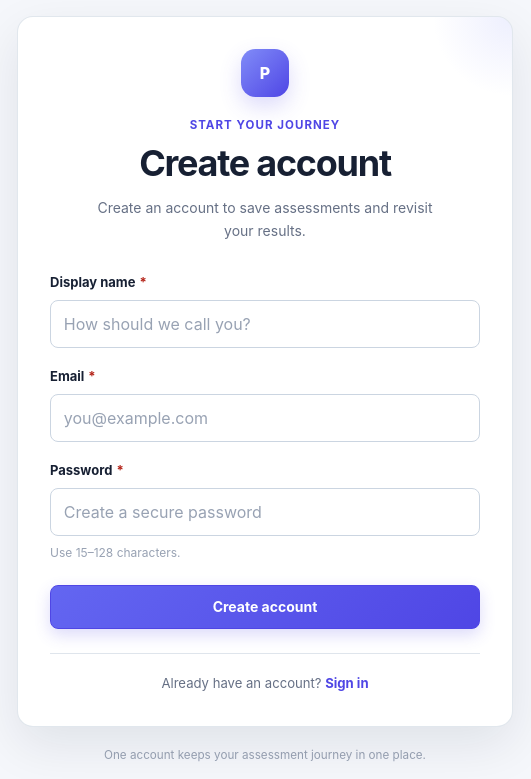
Scenario: RegisterPage › registers an account and sends the user to login
The width and height of the screenshot is (531, 779).
Type "Portfolio User" into the field labelled "Display name".
click(265, 324); type("Portfolio User")  # box [50, 300, 480, 348]
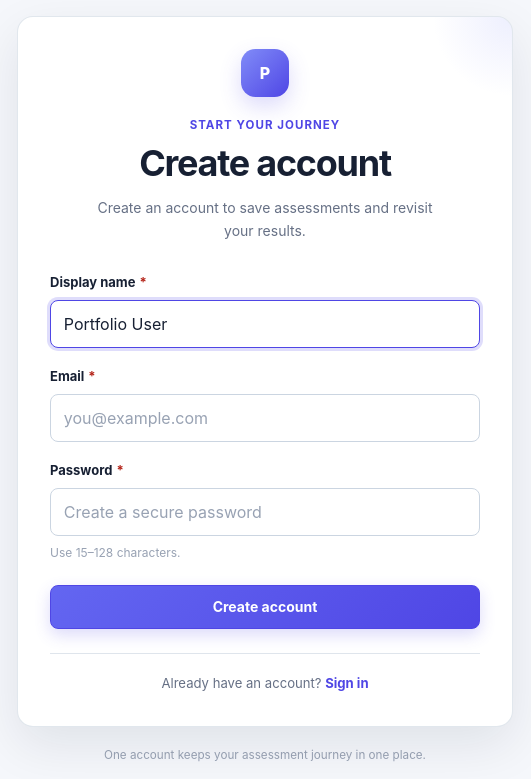
Type "user@example.com" into the field labelled "Email".
click(265, 418); type("user@example.com")  # box [50, 394, 480, 442]
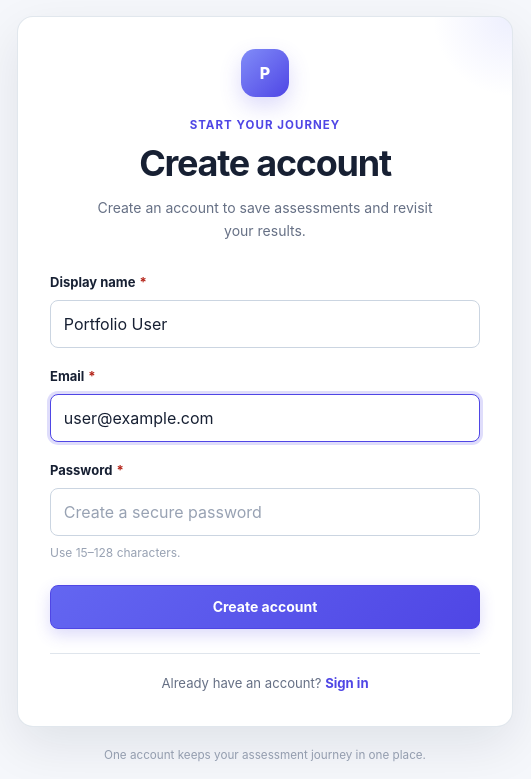
Type "very-secure-password" into the password field labelled "Password".
click(265, 512); type("very-secure-password")  # box [50, 488, 480, 536]
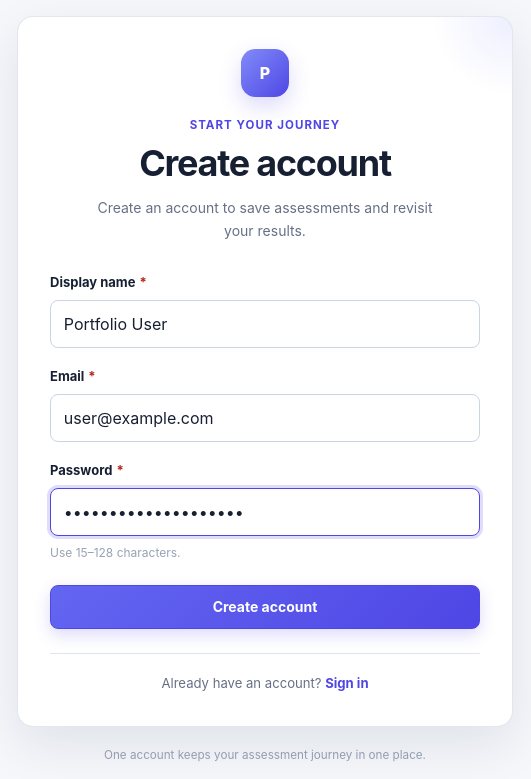
Click the button "Create account".
click(265, 607)  # box [50, 585, 480, 629]
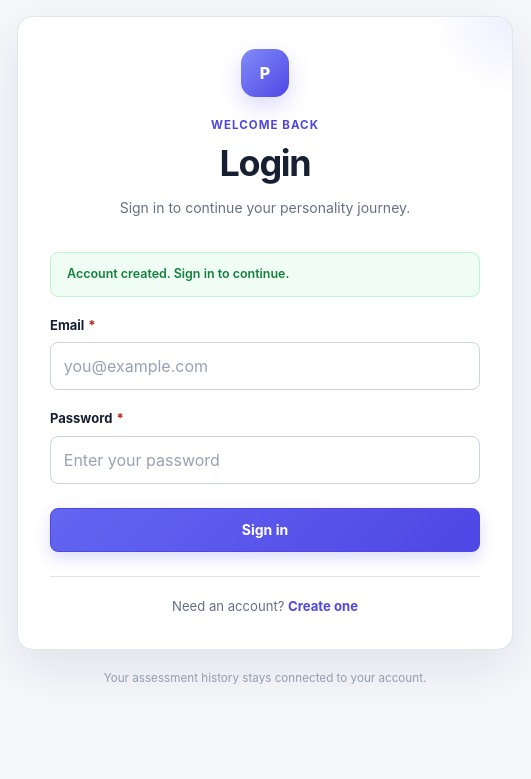
Expected: the text "Account created. Sign in to continue." is shown, [50, 252, 480, 296]
